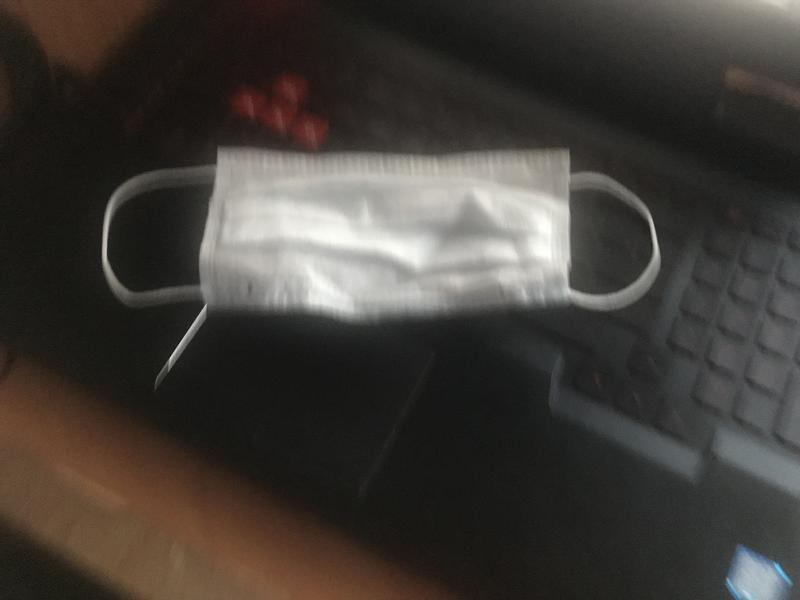medical_mask: (99, 146, 656, 313)
